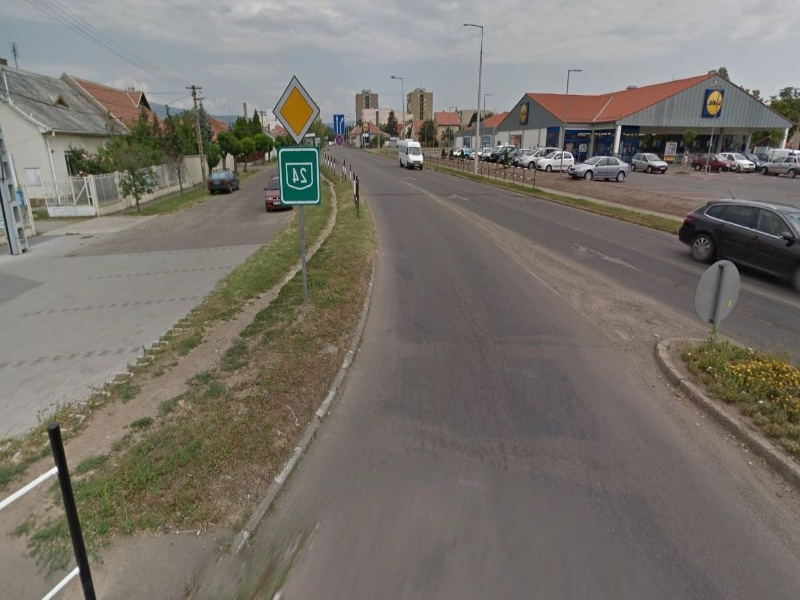fout: (276, 78, 324, 150)
